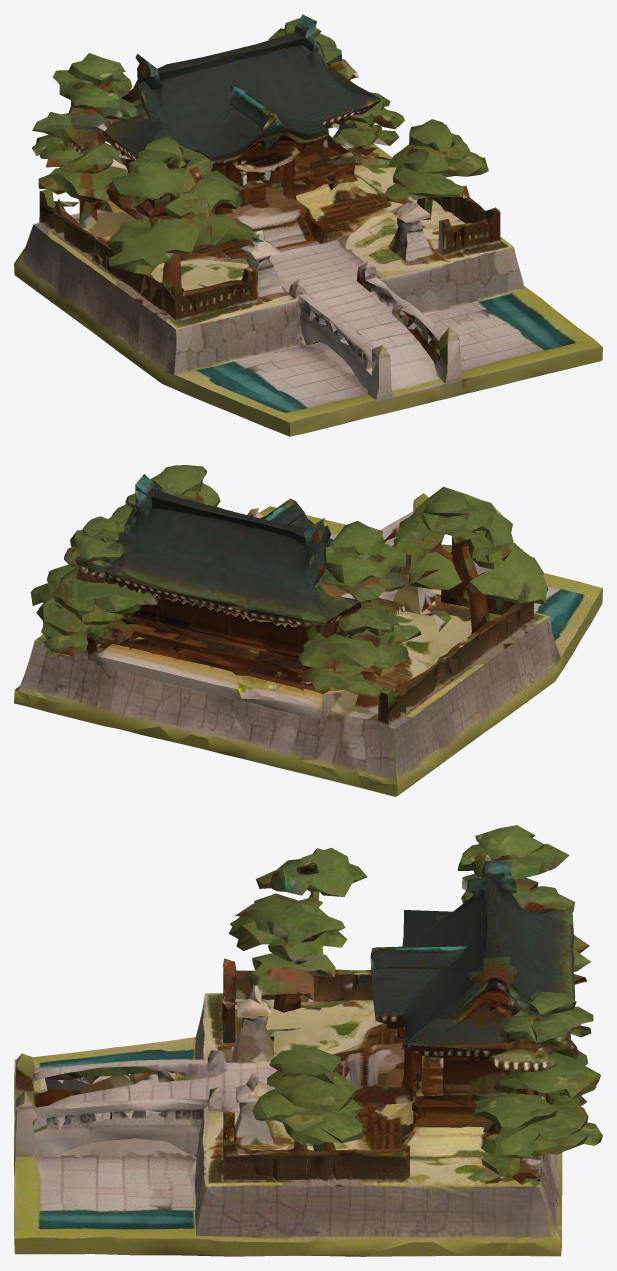
File: uesugi-shrine.glb
3 renders of one model, top to bottom at view 1: azimuth 30°, elevation 25°; view 2: azimuth 150°, elevation 25°; view 3: azimuth 270°, elevation 25°, orthographic. The views are drawn at different scales.
Parts seen in each view (by area): view 1: logan-textured.obj; view 2: logan-textured.obj; view 3: logan-textured.obj.
Part boxes in pixels (<box>): logan-textured.obj: <box>14,14,602,436</box>; logan-textured.obj: <box>14,465,602,796</box>; logan-textured.obj: <box>14,825,602,1256</box>.
Bounding box in the file's own units: 0.89 × 0.4782 × 1.
1 material, 1 textured.
